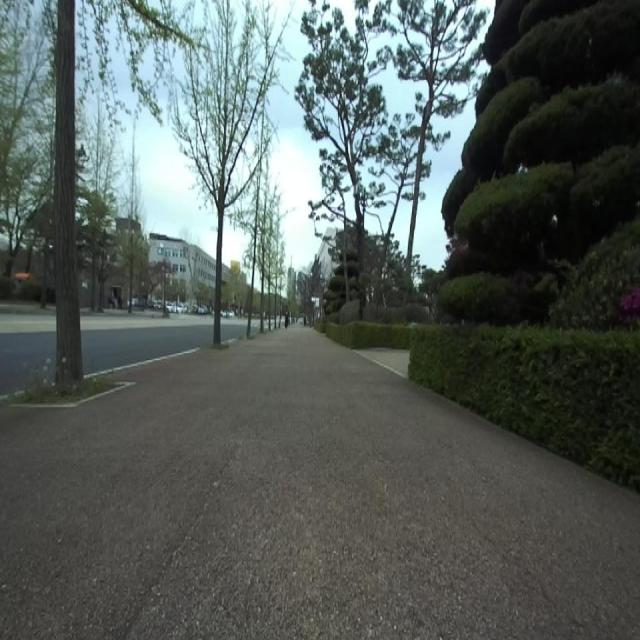sidewalk: (0, 325, 640, 639), (83, 348, 199, 377)
